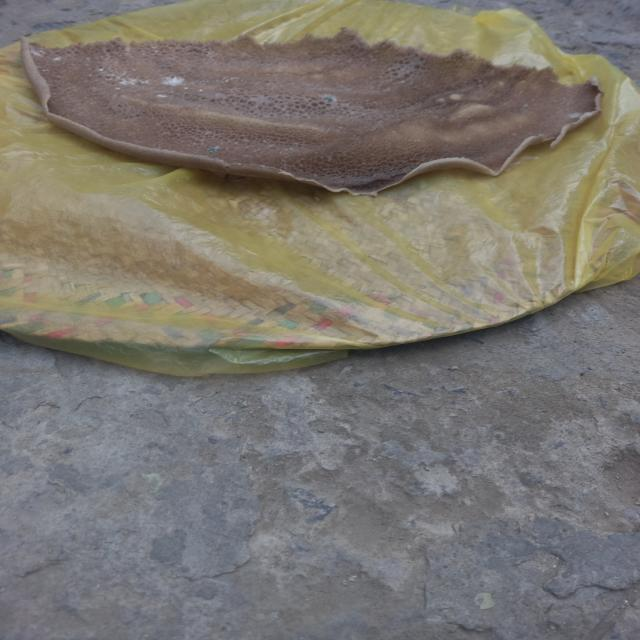injera_mold: (108, 71, 150, 90), (316, 90, 339, 106), (160, 74, 186, 88), (27, 45, 49, 58), (566, 111, 585, 120), (206, 146, 218, 154), (284, 145, 295, 153), (155, 92, 168, 98), (54, 55, 62, 61)
